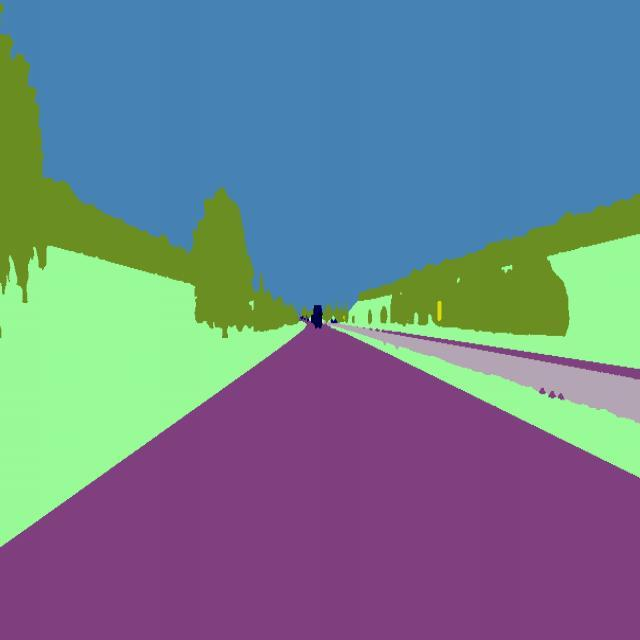safe: (312, 302, 324, 330)
